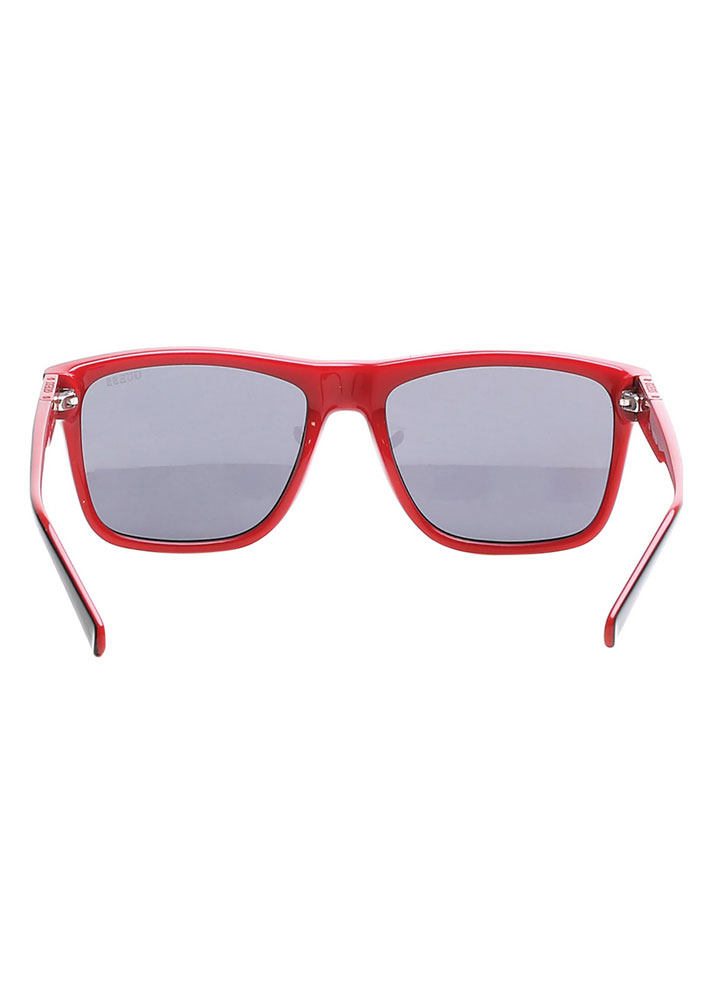Guess: (96, 365, 153, 389)
